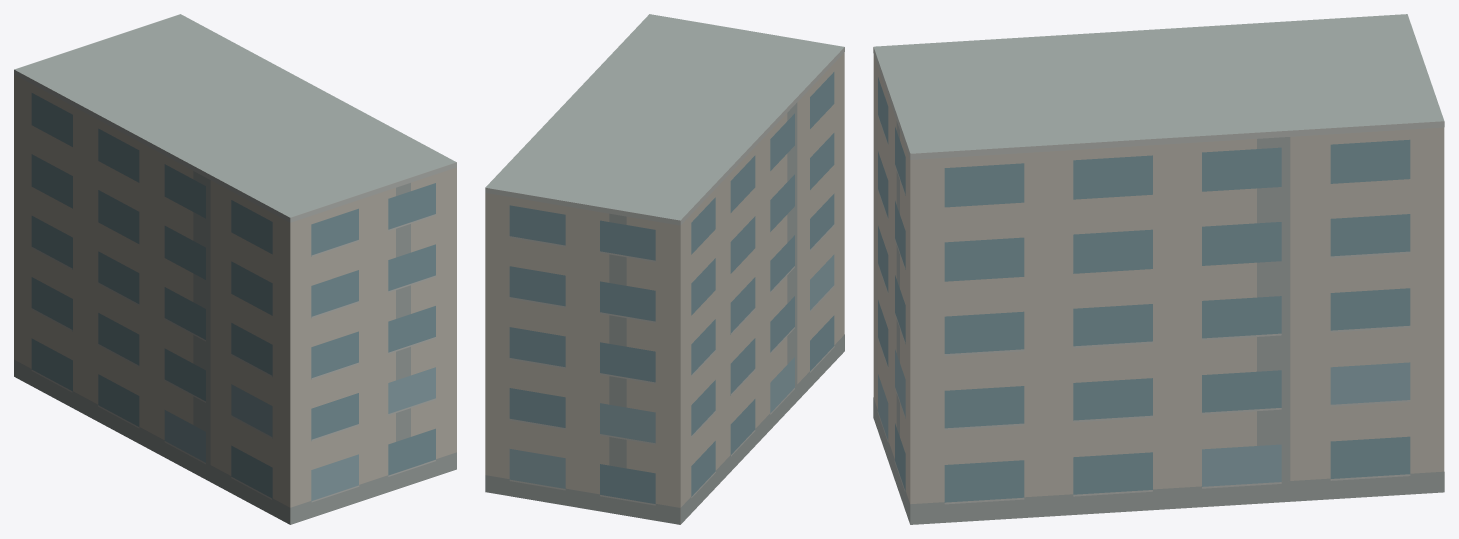
The model's file is survey-upis-32734530.glb.
3 views of the same model, side by side, from view 1: azimuth 30°, elevation 25°; view 2: azimuth 150°, elevation 25°; view 3: azimuth 270°, elevation 25° (orthographic). The views are drawn at different scales.
Visible parts, largest first — view 1: survey-upis-32734530.tmp; view 2: survey-upis-32734530.tmp; view 3: survey-upis-32734530.tmp.
Part boxes in pixels (box(x1,y1,x2,y2)): survey-upis-32734530.tmp: box(14, 14, 456, 524); survey-upis-32734530.tmp: box(485, 14, 844, 524); survey-upis-32734530.tmp: box(873, 14, 1444, 524).
Size of the model in its own units: 11.8 by 14.6 by 20.37.
